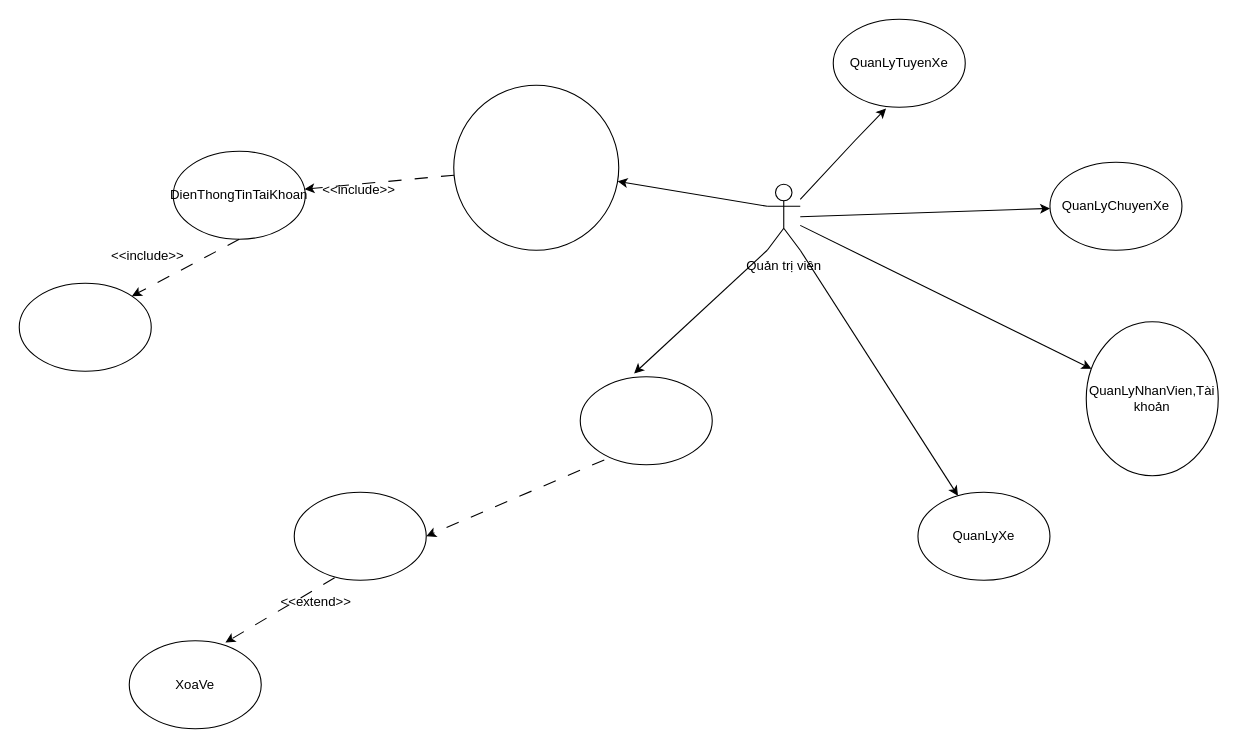
This 1238x748 diagram has some shape labels left out. The shapes that lost their labels are listed below. From the top down, each one's centre as x and y in pixels, then its label:
the point at 536,167: DangKiTaiKhoanNhaVien
the point at 84,326: DangKi
the point at 645,420: Quản lý vé xe
the point at 359,535: ChonVeXe
